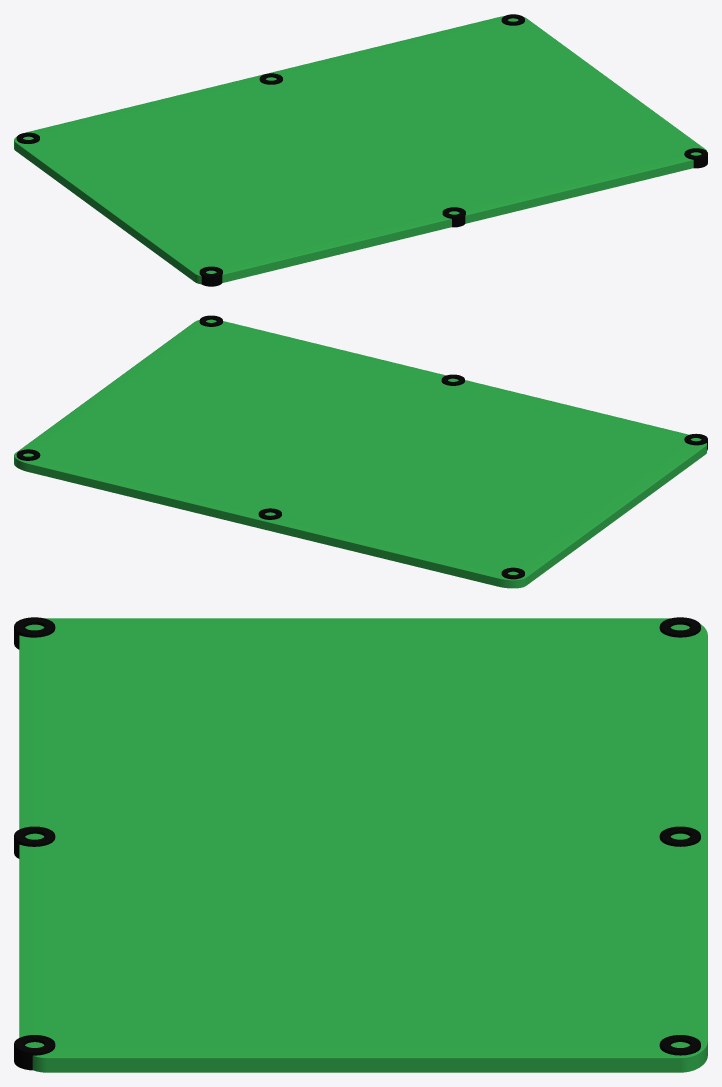
Rendered from Pool.obj.
3 renders of one model, top to bottom at view 1: azimuth 30°, elevation 25°; view 2: azimuth 150°, elevation 25°; view 3: azimuth 270°, elevation 25°, orthographic. The views are drawn at different scales.
Visible parts, largest first — view 1: 006_Box; view 2: 006_Box; view 3: 006_Box, 001_Tube_5, 004_Tube, 002_Tube_3.
Part boxes in pixels (bbox=[...]): 006_Box: bbox=[14, 16, 706, 284]; 006_Box: bbox=[14, 319, 706, 588]; 006_Box: bbox=[19, 618, 707, 1072]; 001_Tube_5: bbox=[14, 1035, 55, 1070]; 004_Tube: bbox=[14, 617, 55, 649]; 002_Tube_3: bbox=[14, 826, 55, 858].
Bounding box in the file's own units: 300 × 6 × 200.
